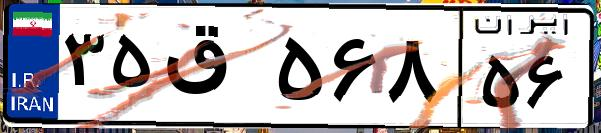3: (57, 26, 110, 100)
5: (270, 28, 330, 110), (475, 38, 525, 113), (110, 28, 158, 98)
6: (330, 28, 385, 110), (525, 38, 570, 115)
8: (385, 28, 445, 110)
ق: (158, 20, 270, 120)
